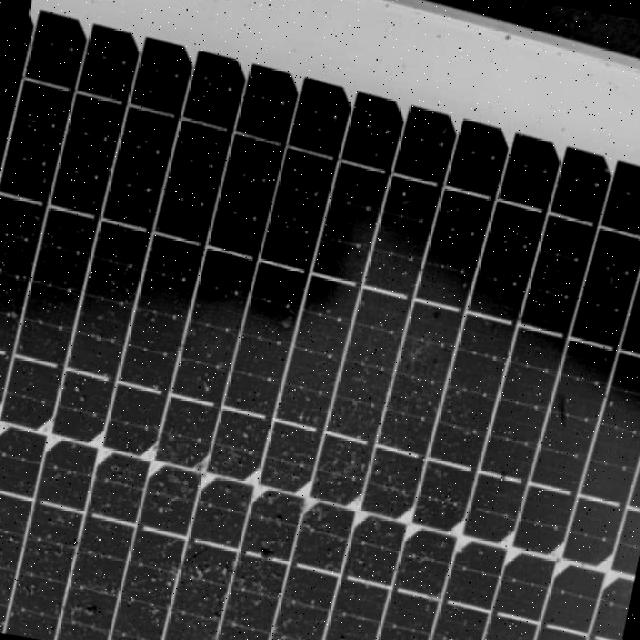Surface Contaminant: (0, 196, 568, 640)
